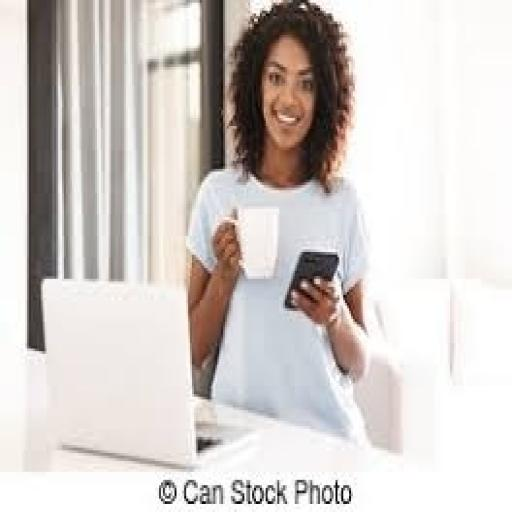texting: (182, 0, 376, 450)
